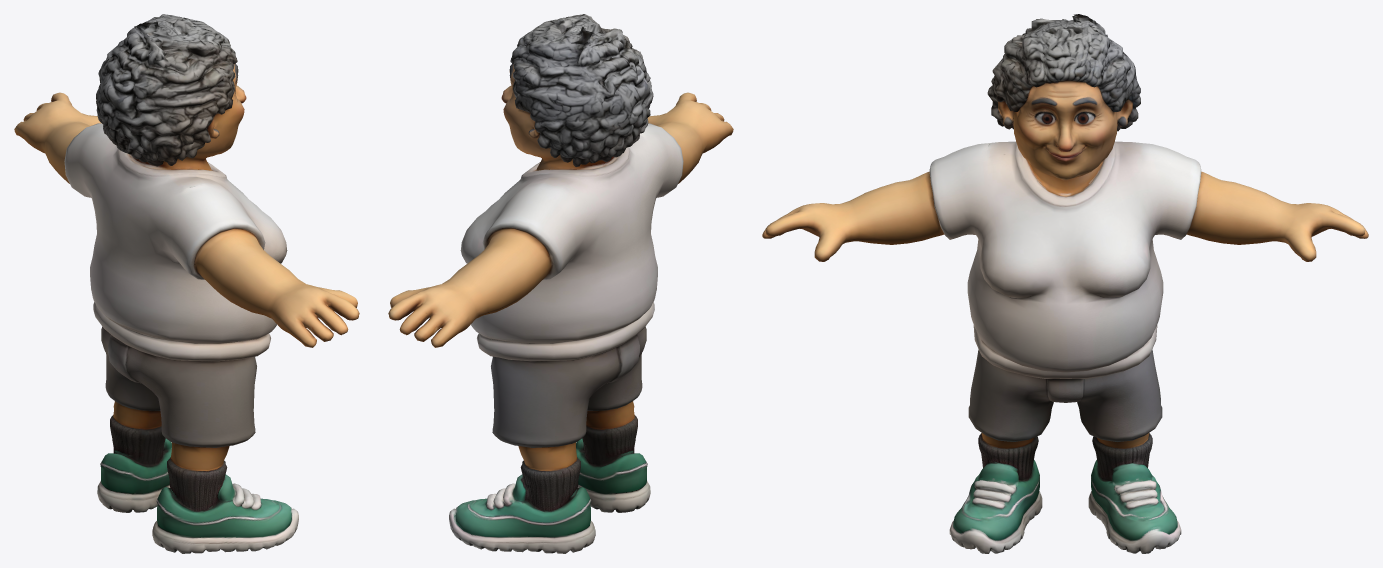
3 views of the same model, side by side, from view 1: azimuth 30°, elevation 25°; view 2: azimuth 150°, elevation 25°; view 3: azimuth 270°, elevation 25° (orthographic).
Visible parts, largest first — view 1: tripo_node_6623c7e7; view 2: tripo_node_6623c7e7; view 3: tripo_node_6623c7e7.
Boxes of the visible parts, box(x1,y1,x2,y2) form: tripo_node_6623c7e7: box(14, 14, 359, 553); tripo_node_6623c7e7: box(388, 14, 733, 553); tripo_node_6623c7e7: box(762, 14, 1368, 553).
Bounding box in the file's own units: 31.31 × 90.41 × 100.
1 material, 1 textured.
